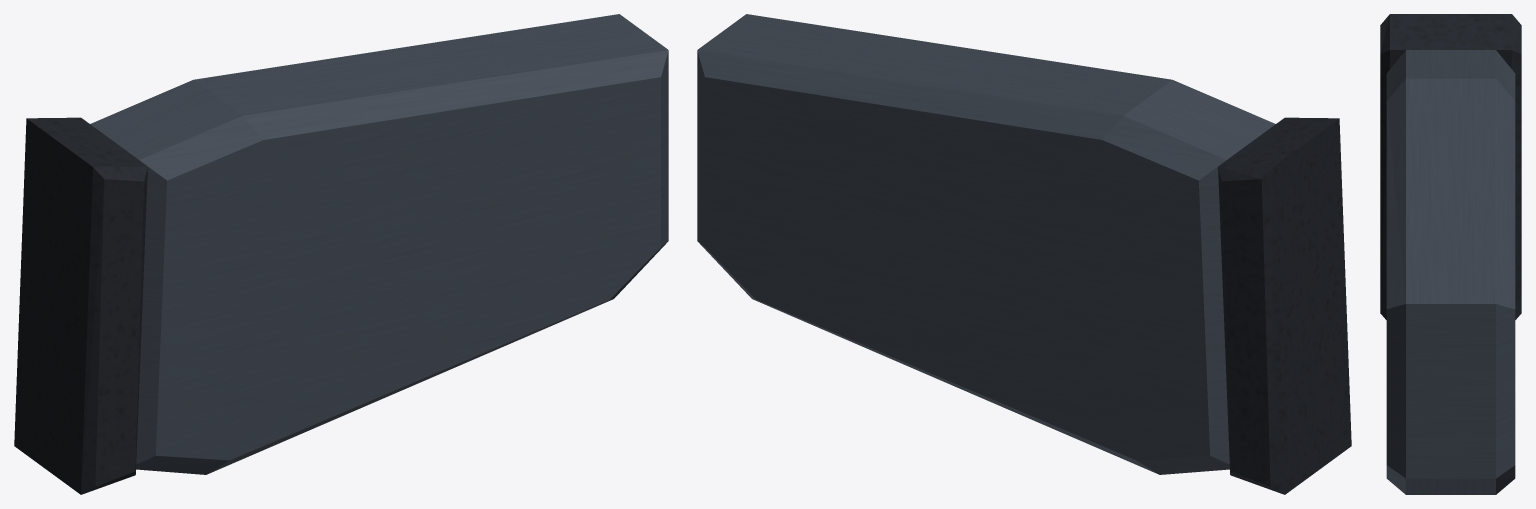
Rendered from stock_fixed_v2.glb.
3 renders of one model, left to right at view 1: azimuth 30°, elevation 25°; view 2: azimuth 150°, elevation 25°; view 3: azimuth 270°, elevation 25°, orthographic. The views are drawn at different scales.
Parts seen in each view (by area): view 1: stock_fixed_mesh; view 2: stock_fixed_mesh; view 3: stock_fixed_mesh.
Part boxes in pixels (box(x1,y1,x2,y2)): stock_fixed_mesh: box(14, 14, 668, 494); stock_fixed_mesh: box(697, 14, 1351, 494); stock_fixed_mesh: box(1380, 14, 1521, 494).
Size of the model in its own units: 0.196 by 0.11 by 0.044.
Materials: 2 (2 with a texture image).
